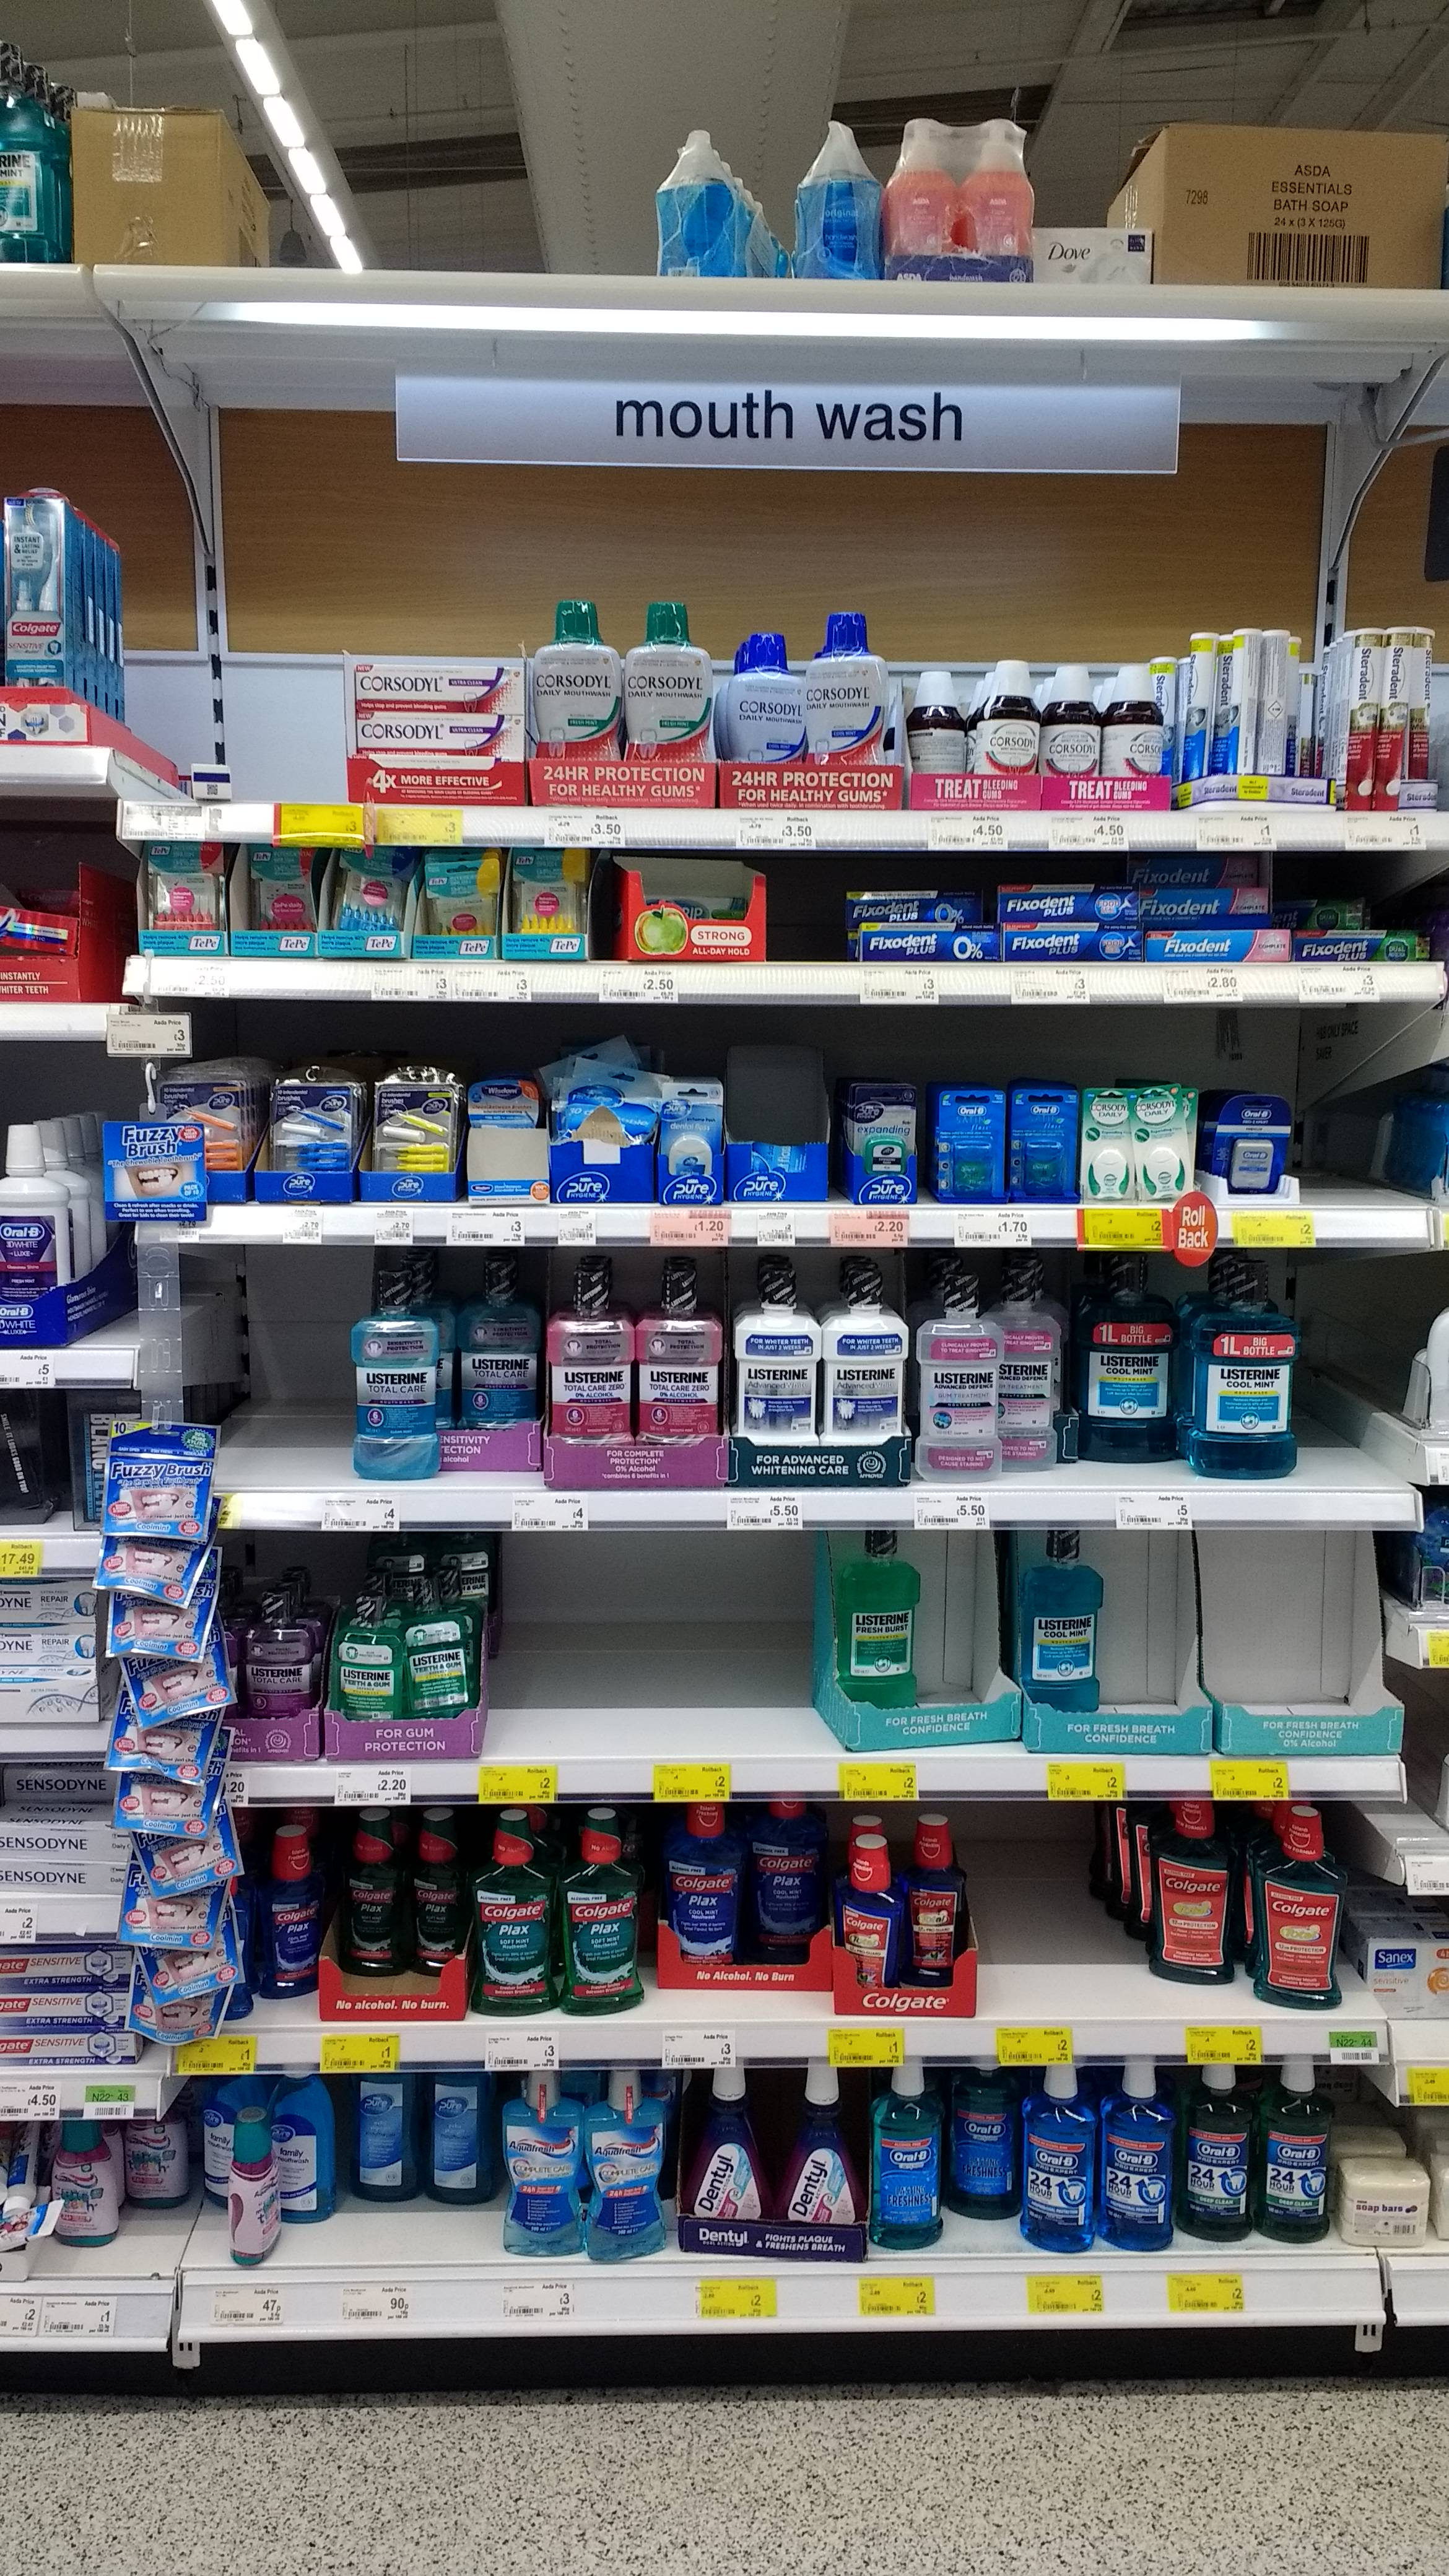product: (1155, 119, 1442, 288), (69, 97, 237, 276), (1182, 1244, 1297, 1488), (1074, 1251, 1177, 1477), (633, 1249, 725, 1497), (541, 1251, 632, 1499), (616, 596, 717, 814), (349, 1246, 441, 1479), (821, 1523, 925, 1729), (1012, 1523, 1109, 1743), (909, 1253, 1001, 1484), (817, 1256, 904, 1493), (672, 2056, 771, 2258), (460, 1240, 540, 1484), (554, 1803, 646, 2013), (1247, 1798, 1338, 2012), (529, 596, 617, 814), (1145, 1794, 1238, 1999), (729, 1256, 810, 1491), (775, 2063, 865, 2270), (9, 494, 76, 755), (801, 610, 888, 810), (499, 2065, 584, 2263), (471, 1803, 547, 2022), (1016, 2059, 1099, 2259), (653, 119, 747, 288), (405, 1560, 481, 1769), (1100, 2056, 1178, 2259), (791, 110, 878, 292), (587, 2065, 667, 2263), (548, 1056, 653, 1207), (1256, 2047, 1334, 2245), (653, 1798, 734, 1987), (745, 1794, 823, 1985), (617, 858, 764, 959), (327, 1562, 400, 1764), (718, 626, 796, 814), (246, 1571, 318, 1764), (1178, 2059, 1253, 2247), (881, 110, 959, 288), (870, 2056, 941, 2252), (1003, 1244, 1062, 1481), (4, 1113, 62, 1348), (103, 1426, 214, 1545), (964, 113, 1037, 290), (356, 1074, 456, 1198), (902, 1803, 964, 2003), (246, 1822, 311, 2006), (262, 1074, 354, 1201), (403, 1801, 467, 1985), (833, 1835, 899, 2013), (223, 837, 313, 962), (334, 1801, 396, 1982), (423, 2063, 495, 2217), (0, 34, 50, 258), (460, 1076, 547, 1203), (970, 651, 1037, 814), (313, 842, 403, 962), (945, 2056, 1008, 2226), (134, 833, 221, 957), (97, 1118, 200, 1221), (1037, 656, 1102, 814), (403, 842, 492, 957), (901, 656, 968, 807), (499, 849, 584, 968), (276, 2065, 340, 2222), (1104, 663, 1169, 814), (350, 660, 527, 715), (846, 1074, 918, 1203), (350, 2068, 418, 2204), (1007, 1079, 1077, 1208), (934, 1085, 1005, 1210), (1341, 2157, 1433, 2252), (727, 1116, 828, 1203), (345, 757, 527, 805), (55, 2116, 117, 2254), (660, 1074, 722, 1208), (119, 2114, 195, 2220), (1040, 225, 1155, 294), (228, 2107, 274, 2277), (1368, 1934, 1449, 2028), (1134, 1083, 1196, 1205), (1375, 617, 1410, 817), (1217, 1095, 1284, 1198), (350, 715, 522, 754), (1339, 623, 1373, 814), (1079, 1083, 1131, 1207), (994, 885, 1138, 927), (207, 1062, 248, 1210), (1180, 625, 1217, 784), (1223, 623, 1256, 794), (134, 1840, 242, 1893), (106, 1730, 214, 1782), (131, 1670, 237, 1721), (4, 1675, 103, 1729), (113, 1785, 218, 1835), (1146, 931, 1292, 966), (64, 1384, 97, 1536), (1141, 885, 1267, 925), (110, 1608, 212, 1658), (840, 885, 984, 920), (998, 927, 1141, 962), (1292, 927, 1428, 964), (4, 1955, 133, 1994), (858, 922, 991, 959), (1412, 616, 1437, 814), (1258, 623, 1286, 789), (110, 1552, 200, 1603), (4, 1996, 124, 2033), (0, 1575, 94, 1621), (120, 1904, 218, 1948), (133, 2001, 230, 2045), (4, 1764, 106, 1805), (5, 1858, 122, 1893), (0, 1819, 110, 1856), (149, 1950, 232, 1997), (4, 2038, 127, 2070), (0, 2204, 51, 2281), (1129, 855, 1267, 881), (5, 1629, 103, 1665), (0, 957, 69, 1003), (4, 906, 80, 947), (1277, 890, 1364, 925), (5, 2123, 41, 2203)
